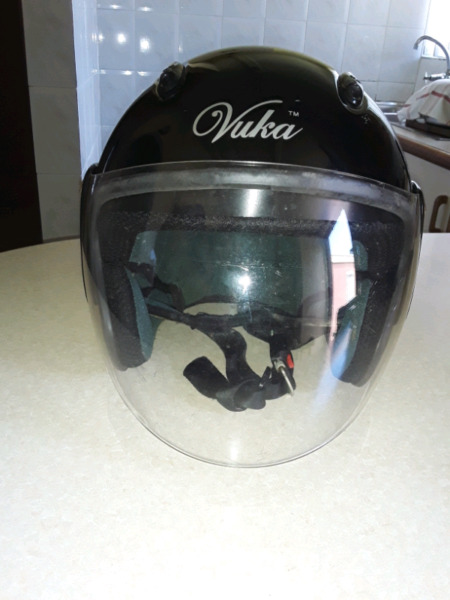with_helmet: (68, 41, 424, 475)
